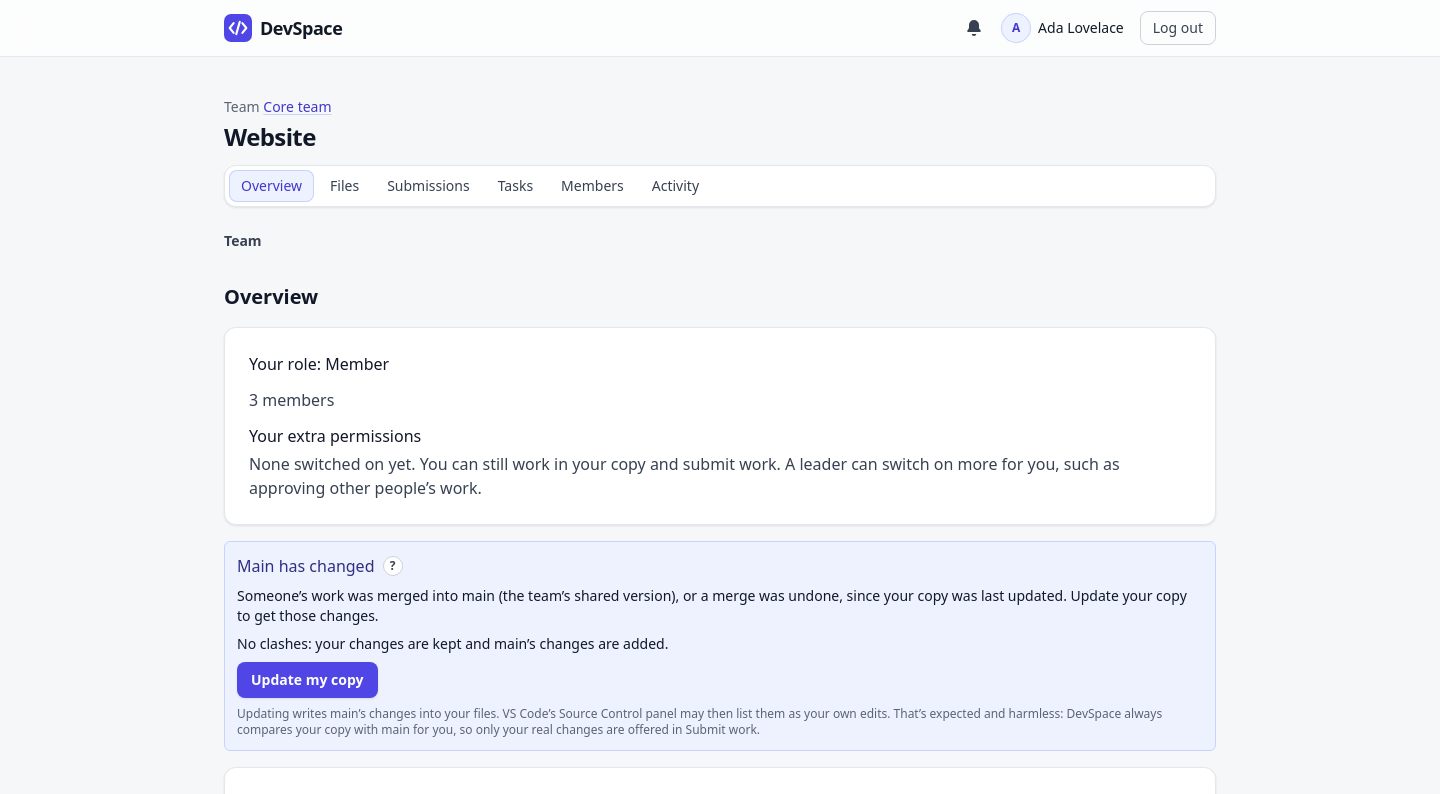
Test case: Update my copy on the overview › explains a copy that changed during the update
This screenshot has width=1440, height=794.
Click the button "Update my copy".
click(307, 680)  # box [237,662,378,698]
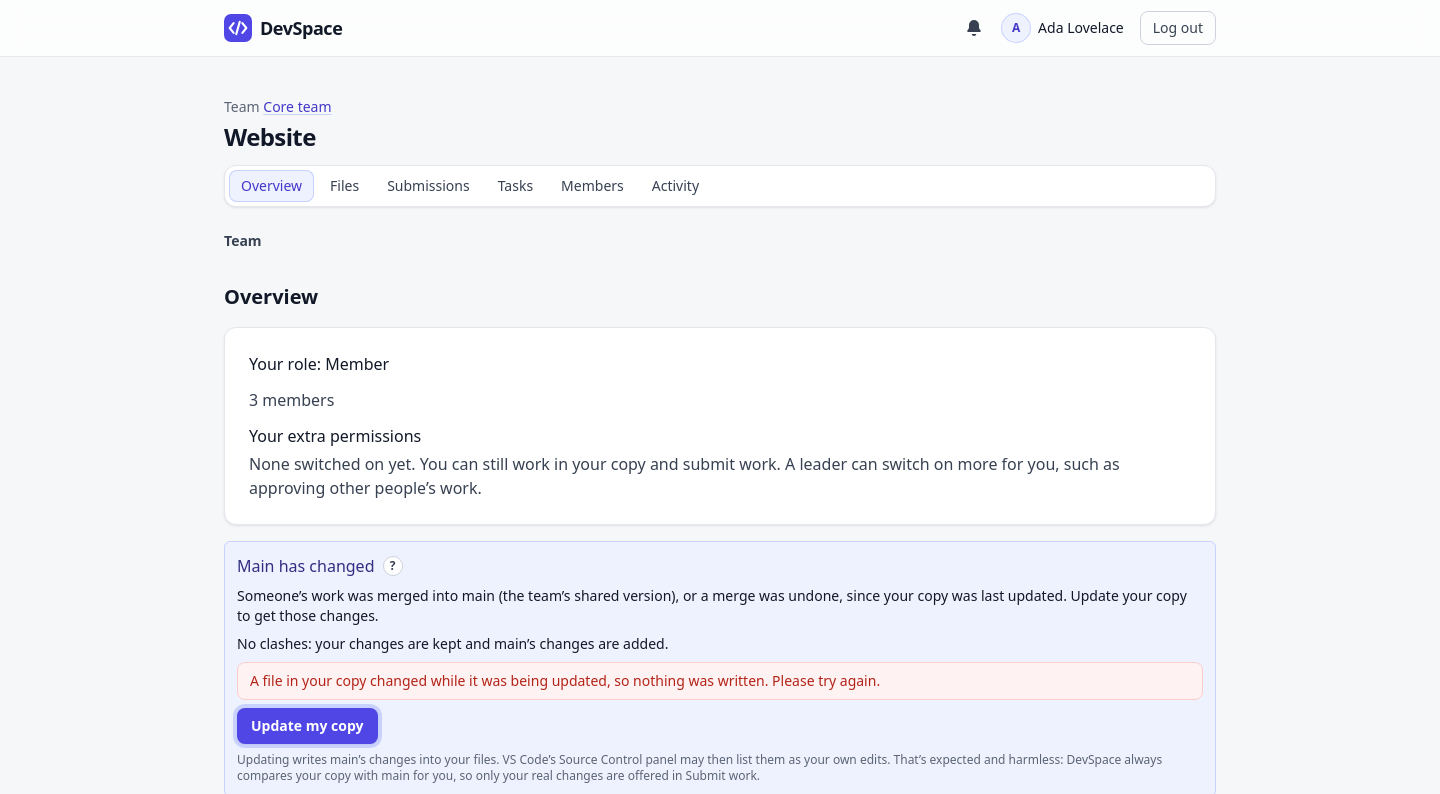
Expected: the message shows "nothing was written", [250,671,880,690]
